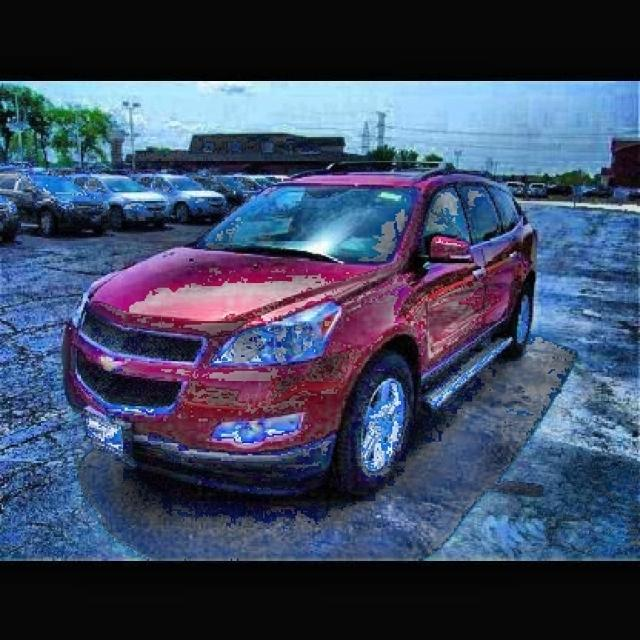maroon: (66, 169, 537, 500)
